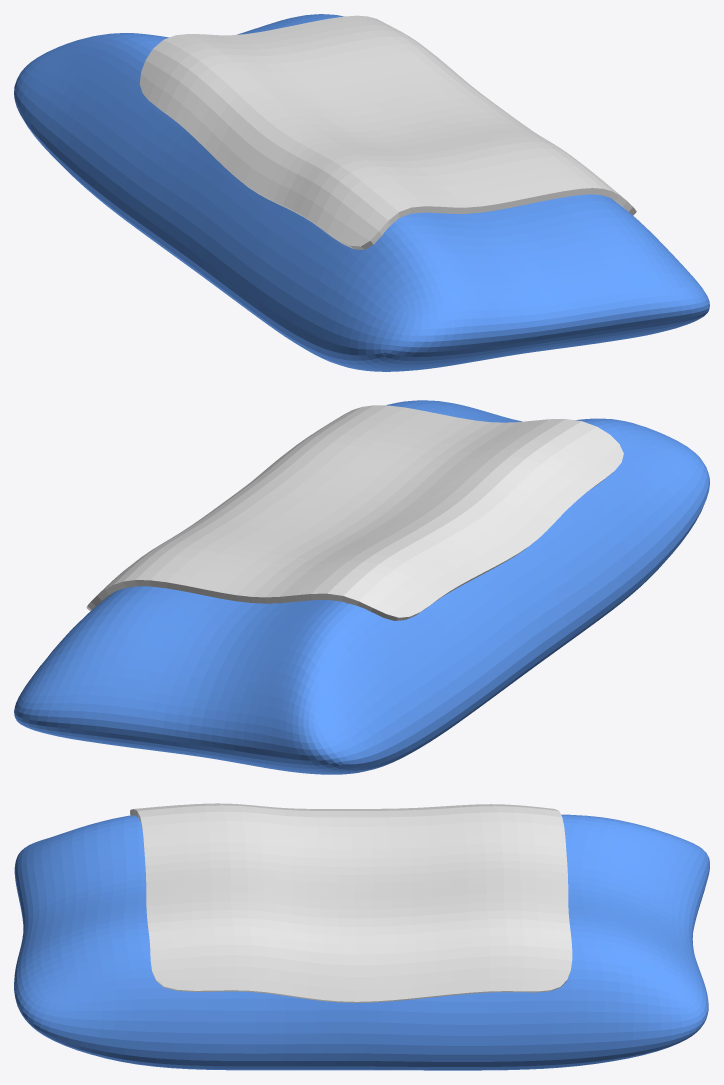
The model's file is pillow.fbx.
3 renders of one model, top to bottom at view 1: azimuth 30°, elevation 25°; view 2: azimuth 150°, elevation 25°; view 3: azimuth 270°, elevation 25°, orthographic. The views are drawn at different scales.
Parts seen in each view (by area): view 1: Pillow, Plane; view 2: Pillow, Plane; view 3: Pillow, Plane.
Boxes of the visible parts, <box> form: Pillow: <box>14,14,709,371</box>; Plane: <box>139,15,636,249</box>; Pillow: <box>14,400,709,774</box>; Plane: <box>86,405,623,620</box>; Pillow: <box>14,814,709,1070</box>; Plane: <box>130,803,572,1002</box>.
Size of the model in its own units: 46.74 by 23.21 by 90.12.
